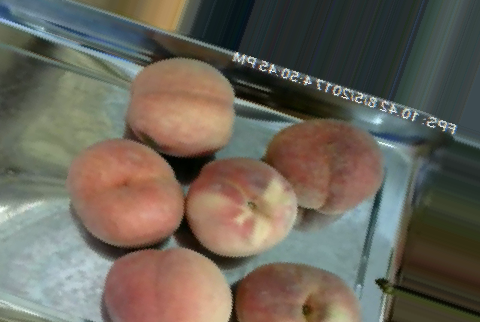Peach: (71, 137, 186, 248), (186, 156, 302, 257), (263, 119, 384, 215), (127, 57, 234, 157), (101, 247, 231, 321), (233, 262, 359, 322)
